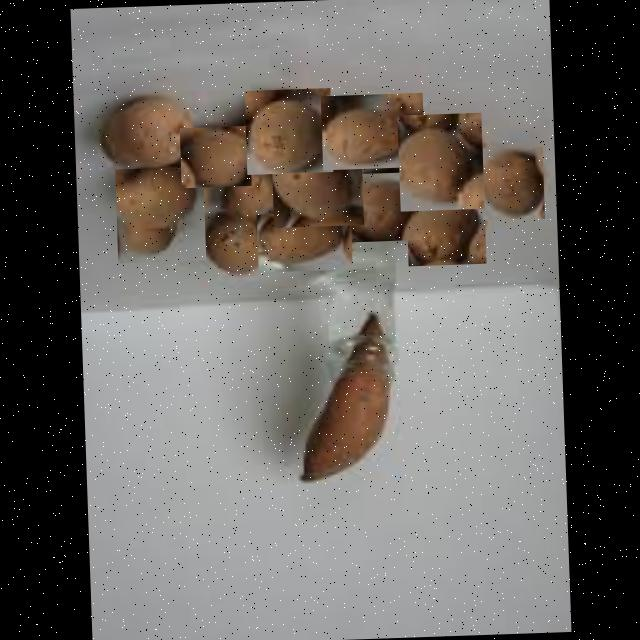Damaged potato: (282, 309, 412, 491), (114, 166, 206, 263), (397, 112, 484, 211), (320, 92, 425, 170), (271, 142, 364, 228), (90, 91, 188, 172), (244, 88, 333, 174), (406, 189, 486, 266), (256, 211, 352, 272), (341, 172, 423, 242), (200, 213, 262, 290), (480, 146, 544, 220), (179, 126, 251, 188), (215, 163, 274, 232)
